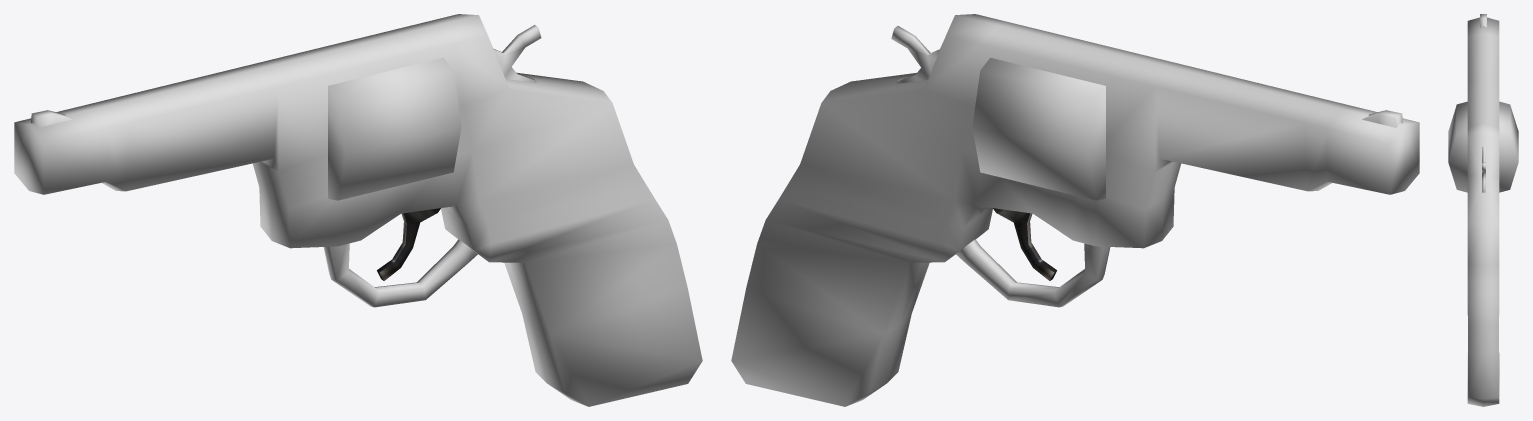
Rendered from gun.gltf.
The picture shows the model from 3 angles, left to right: view 1: azimuth 30°, elevation 25°; view 2: azimuth 150°, elevation 25°; view 3: azimuth 270°, elevation 25°; orthographic projection. The views are drawn at different scales.
Visible parts, largest first — view 1: Cube.007_Cube.012; view 2: Cube.007_Cube.012; view 3: Cube.007_Cube.012.
Part boxes in pixels (<box>): Cube.007_Cube.012: <box>14,14,702,406</box>; Cube.007_Cube.012: <box>731,14,1419,406</box>; Cube.007_Cube.012: <box>1448,14,1518,406</box>.
Bounding box in the file's own units: 0.6755 × 0.4039 × 0.1152.
2 materials, 1 textured.
